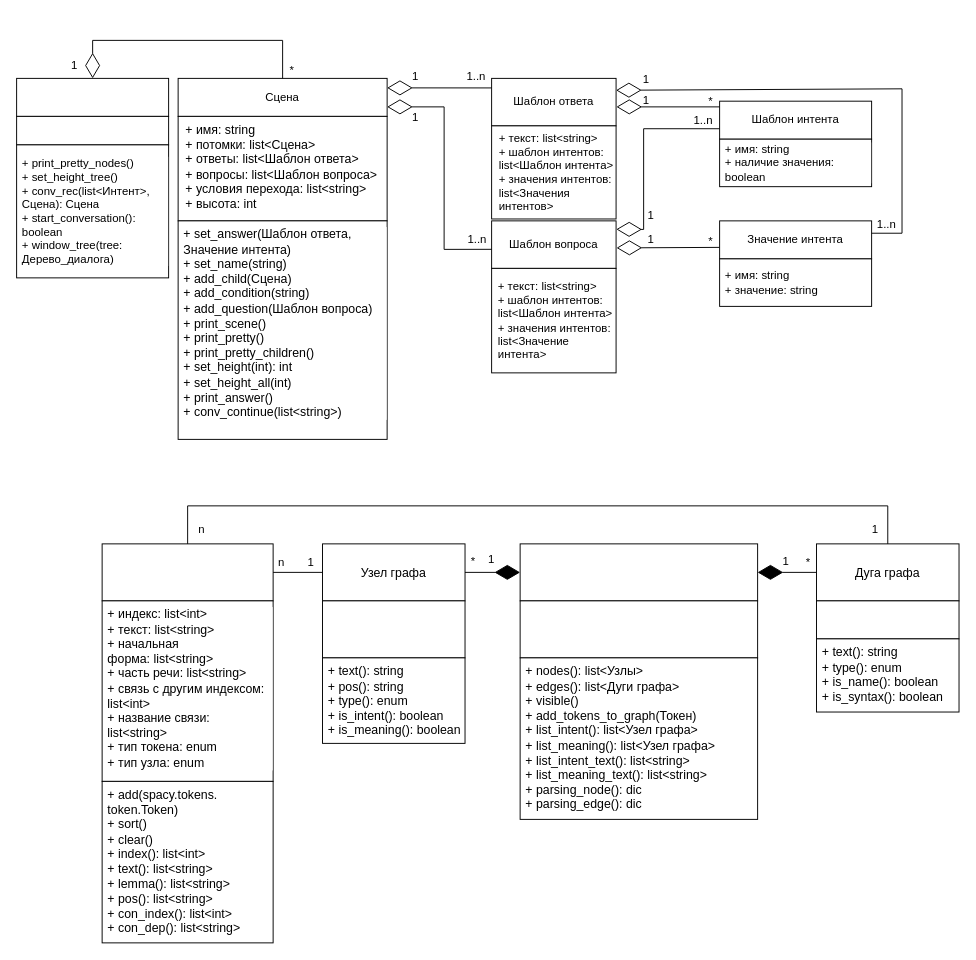
The diagram is 976 pixels wide and 960 high, and some of its shapes have lost their labels. Each missing label, with the centre of its shape:
+ граф: networkx.DiGraph + слой: int + индекс: int: point (638, 629)
+ корень: Сцена: point (92, 130)
+ текст: string + тип: enum: point (887, 619)
+ текст: string + часть речи: string + тип: enum: point (393, 629)
Граф: point (638, 572)
Дерево диалога: point (92, 96)
Токен: point (187, 572)
